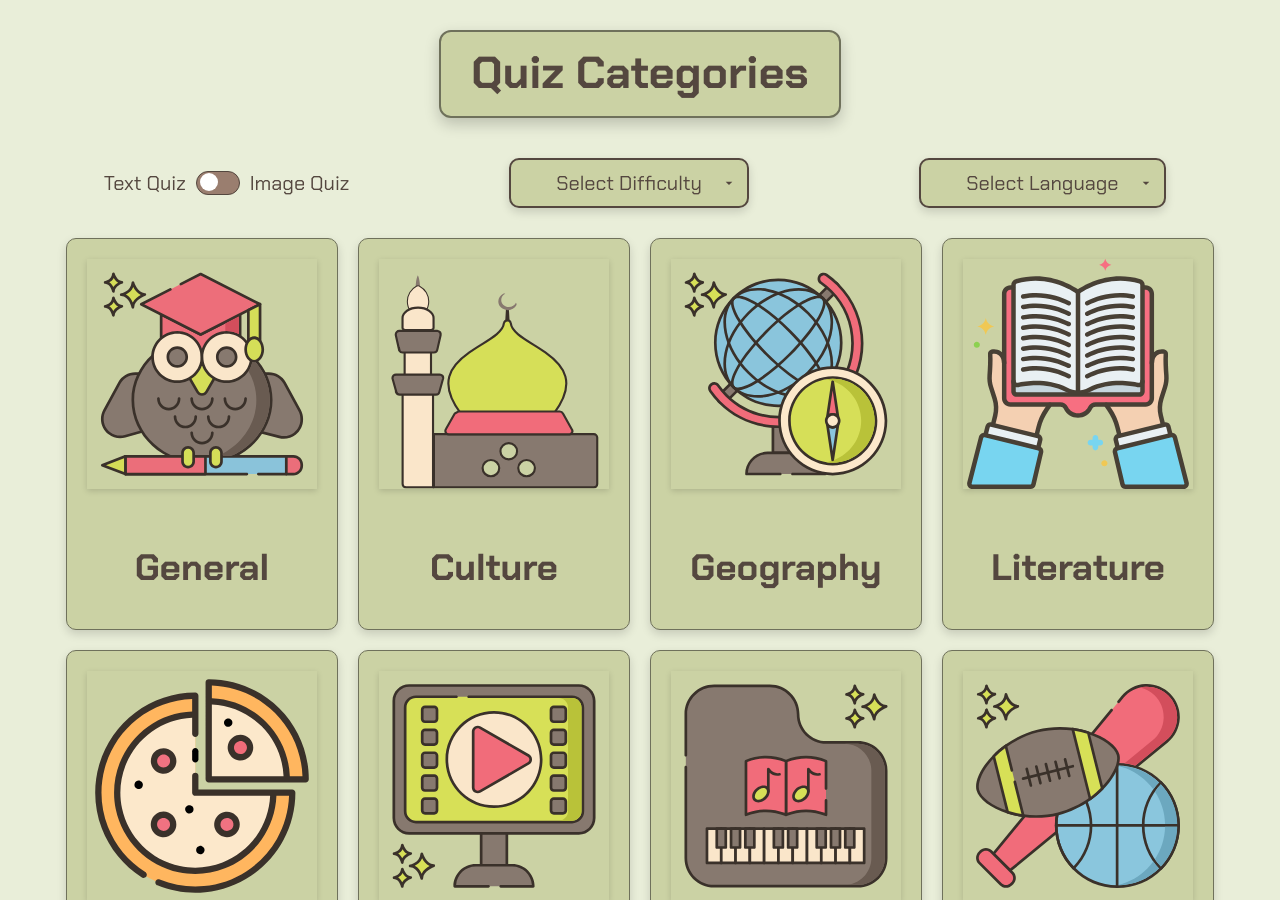
Scenario: QuizCategory › opens regular quiz popup on non-custom category click
The width and height of the screenshot is (1280, 900).
Click the picture with alt text "An owl wearing a graduation cap sitting on a pencil, representing the General Knowledge category" at [202, 374], box left=87, top=259, right=317, bottom=489
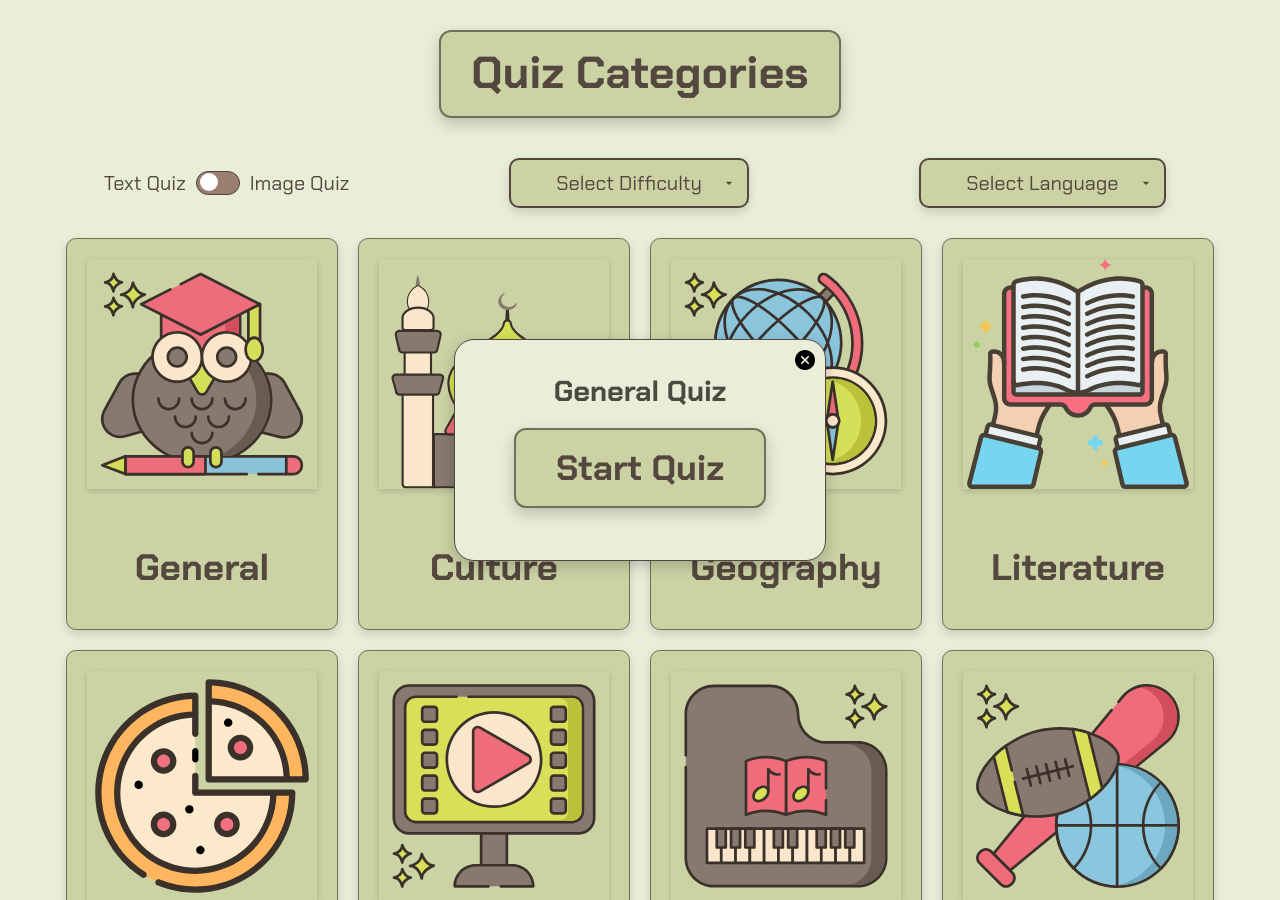
Expected: the heading "General Quiz" is shown, left=554, top=372, right=726, bottom=410
